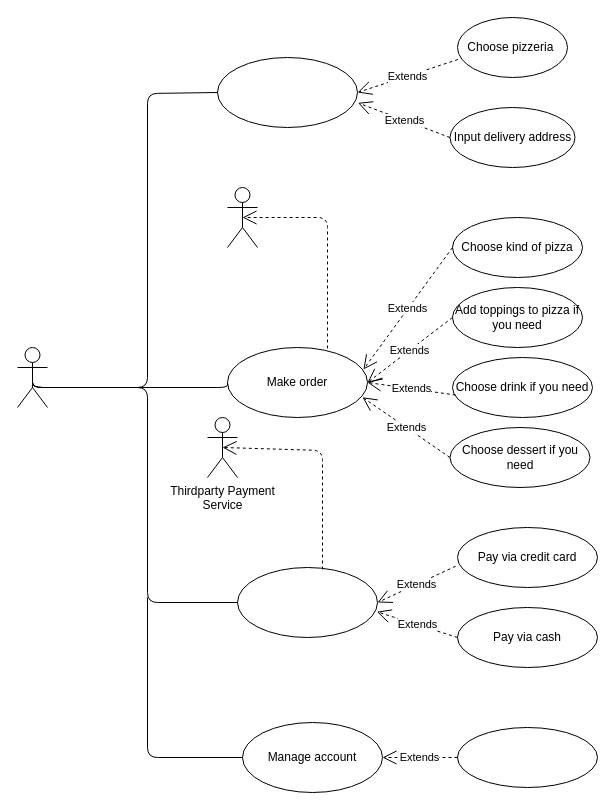
Some shapes in this 615 by 810 pixel diagram are drawn without their labels. The shapes that lost their labels are listed below. From the top down, each one's box as (x1, y1, x2, y2) in pixels, then its label:
(216, 56, 358, 128): Navigation
(226, 186, 258, 248): Delivery System
(16, 346, 48, 408): User
(236, 566, 378, 638): Payment
(456, 726, 598, 788): Registration in system
